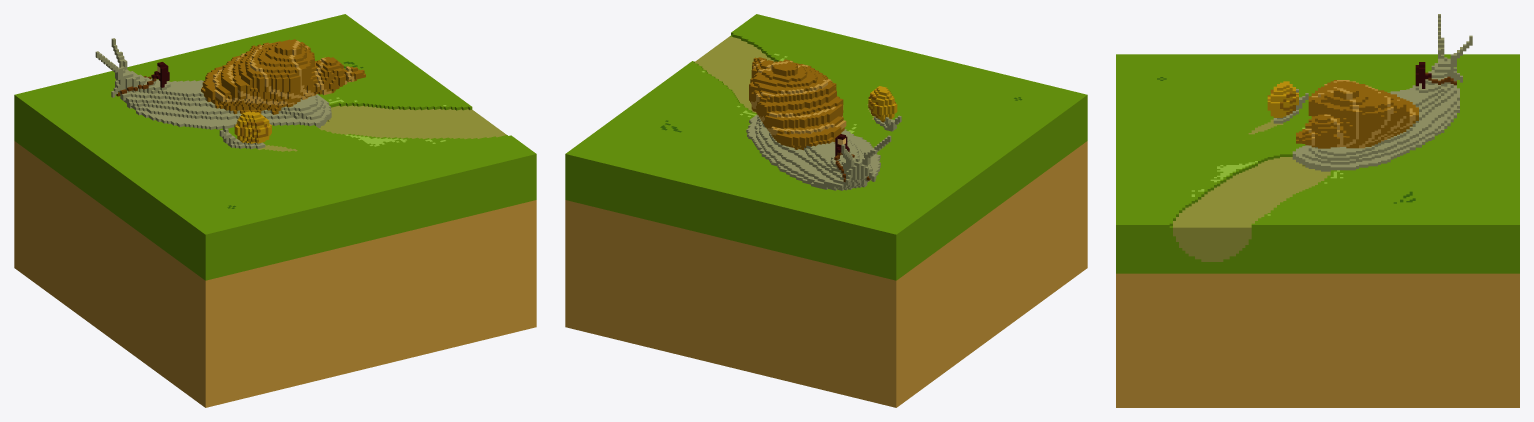
3 renders of one model, left to right at view 1: azimuth 30°, elevation 25°; view 2: azimuth 150°, elevation 25°; view 3: azimuth 270°, elevation 25°, orthographic. The views are drawn at different scales.
Visible parts, largest first — view 1: 6D; view 2: 6D; view 3: 6D.
Part boxes in pixels (x1,y1,x2,y2): 6D: (14,14,536,407); 6D: (565,14,1087,407); 6D: (1116,14,1519,407).
Bounding box in the file's own units: 12.8 × 8.7 × 12.8.
1 material, 1 textured.
